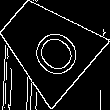O_NW: (14, 13, 80, 79)
